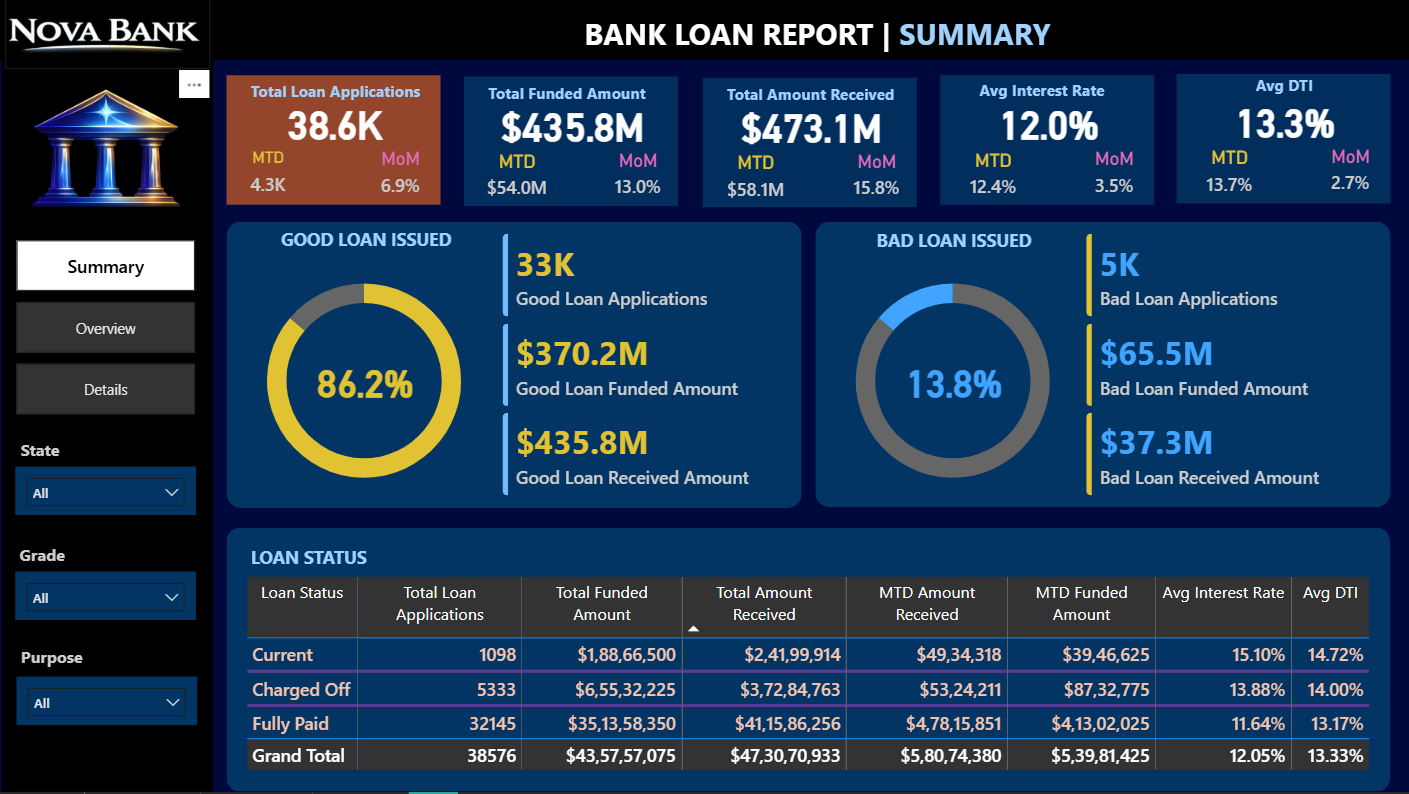

The dashboard page shown, as its layout file describes it:
{"tool":"powerbi","page":{"name":"Summary","canvas":[1280,720],"ordinal":0},"visuals":[{"type":"shape","box":[2.3,54.7,191.9,665.1],"z":0},{"type":"shape","box":[0,0,1280.3,55],"z":1000},{"type":"textbox","box":[526.7,8.1,454.7,46.5],"z":2000},{"type":"shape","box":[1068.6,68.1,194.2,117.4],"z":3000,"group":"g5"},{"type":"group","id":"g1","title":"Group 1","box":[206.5,69.1,194.2,119.3],"z":3000},{"type":"shape","box":[206.5,69.6,194.2,117.4],"z":3000,"group":"g1"},{"type":"shape","box":[854,70.2,194.2,117.4],"z":3000,"group":"g4"},{"type":"shape","box":[422.3,70.3,194.2,117.4],"z":3000,"group":"g2"},{"type":"shape","box":[638.1,71.4,194.2,117.4],"z":3000,"group":"g3"},{"type":"card","fields":{"Values":["bank_loan_data.Avg DTI"]},"box":[1074.9,87.9,183.7,45.3],"z":4000,"group":"g5"},{"type":"card","fields":{"Values":["bank_loan_data.Total Loan Applications"]},"box":[212.8,89.3,183.7,45.3],"z":4000,"group":"g1"},{"type":"card","fields":{"Values":["bank_loan_data.Total Funded Amount"]},"box":[428.6,90,183.7,45.3],"z":4000,"group":"g2"},{"type":"card","fields":{"Values":["bank_loan_data.Avg Interest Rate"]},"box":[860.3,90,183.7,45.3],"z":4000,"group":"g4"},{"type":"card","fields":{"Values":["bank_loan_data.Total Amount Received"]},"box":[644.4,91.1,183.7,45.3],"z":4000,"group":"g3"},{"type":"shape","box":[207,202.3,522,260],"z":4000},{"type":"textbox","box":[1135,64,101.2,29.1],"z":5000,"group":"g5"},{"type":"textbox","box":[884.2,68.6,172.1,31.4],"z":5000,"group":"g4"},{"type":"textbox","box":[223.2,69.1,172.1,31.4],"z":5000,"group":"g1"},{"type":"group","id":"g2","title":"Group 1","box":[422.3,69.8,194.2,120],"z":5000},{"type":"textbox","box":[439,69.8,172.1,31.4],"z":5000,"group":"g2"},{"type":"textbox","box":[654.8,70.9,172.1,31.4],"z":5000,"group":"g3"},{"type":"card","title":"MTD","fields":{"Values":["bank_loan_data.MTD Avg DTI"]},"box":[1074.9,134.2,82.6,53.5],"z":6000,"group":"g5"},{"type":"card","title":"MTD","fields":{"Values":["bank_loan_data.MTD Loan Applications"]},"box":[212.8,134.9,61.6,53.5],"z":6000,"group":"g1"},{"type":"card","title":"MTD","fields":{"Values":["bank_loan_data.MTD Funded Amount"]},"box":[428.6,136.3,82.6,53.5],"z":6000,"group":"g2"},{"type":"card","title":"MTD","fields":{"Values":["bank_loan_data.MTD Avg Interest Rate"]},"box":[860.3,136.3,82.6,53.5],"z":6000,"group":"g4"},{"type":"card","title":"MTD","fields":{"Values":["bank_loan_data.MTD Amount Received"]},"box":[644.4,137.4,82.6,53.5],"z":6000,"group":"g3"},{"type":"textbox","box":[251.2,202.3,165.1,31.4],"z":6000},{"type":"group","id":"g3","title":"Group 1","box":[638.1,70.9,194.2,119.8],"z":7000},{"type":"card","title":"MoM","fields":{"Values":["bank_loan_data.MoM Avg DTI"]},"box":[1195.8,133.5,61.6,53.5],"z":7000,"group":"g5"},{"type":"card","title":"MoM","fields":{"Values":["bank_loan_data.MoM Loan Application"]},"box":[333.7,134.9,61.6,53.5],"z":7000,"group":"g1"},{"type":"card","title":"MoM","fields":{"Values":["bank_loan_data.MoM Total Funded Amount"]},"box":[549.5,135.6,61.6,53.5],"z":7000,"group":"g2"},{"type":"card","title":"MoM","fields":{"Values":["bank_loan_data.MoM Avg Interest Rate"]},"box":[981.2,135.6,61.6,53.5],"z":7000,"group":"g4"},{"type":"card","title":"MoM","fields":{"Values":["bank_loan_data.MoM Total Amount Received"]},"box":[765.3,136.7,61.6,53.5],"z":7000,"group":"g3"},{"type":"group","id":"g4","title":"Group 2","box":[854,68.6,202.3,121.2],"z":8000},{"type":"group","id":"g5","title":"Group 2","box":[1068.6,64,194.2,123.3],"z":9000},{"type":"card","fields":{"Values":["bank_loan_data.Good Loan %"]},"box":[279.1,316.3,107,60.5],"z":10000},{"type":"shape","box":[740.7,202.3,522.1,259.3],"z":11000},{"type":"donutChart","fields":{"Category":["bank_loan_data.Good vs Bad Loan"],"Y":["bank_loan_data.Total Loan Applications"]},"box":[207,231.4,250,230.2],"z":12000},{"type":"cardVisual","fields":{"Data":["bank_loan_data.Good Loan Applications","bank_loan_data.Good Loan Funded Amount","bank_loan_data.Good Loan Received Amount"]},"box":[439.5,196.5,284.9,272.1],"z":13000},{"type":"donutChart","fields":{"Category":["bank_loan_data.Good vs Bad Loan"],"Y":["bank_loan_data.Total Loan Applications"]},"box":[740.7,231.4,250,230.2],"z":14000},{"type":"textbox","box":[775.6,203.5,181.4,31.4],"z":15000},{"type":"card","fields":{"Values":["bank_loan_data.Bad Loan %"]},"box":[812.8,316.3,107,60.5],"z":16000},{"type":"cardVisual","fields":{"Data":["bank_loan_data.Bad Loan Applications","bank_loan_data.Bad Loan Funded Amount","bank_loan_data.Bad Loan Received Amount"]},"box":[969.8,196.5,284.9,272.1],"z":17000},{"type":"shape","box":[207,480.2,1055.8,239.5],"z":18000},{"type":"tableEx","fields":{"Values":["bank_loan_data.loan_status","bank_loan_data.Total Loan Applications","bank_loan_data.Total Funded Amount","bank_loan_data.Total Amount Received","bank_loan_data.MTD Amount Received","bank_loan_data.MTD Funded Amount","bank_loan_data.Avg Interest Rate","bank_loan_data.Avg DTI"]},"box":[218.6,519.8,1031.4,190.7],"z":19000},{"type":"textbox","box":[223.3,489.5,146.5,31.4],"z":20000},{"type":"slicer","fields":{"Values":["bank_loan_data.address_state"]},"box":[15.1,424.4,164,44.2],"z":21000},{"type":"textbox","box":[15.1,393,165.1,31.4],"z":22000},{"type":"slicer","fields":{"Values":["bank_loan_data.grade"]},"box":[15.1,519.8,164,44.2],"z":23000},{"type":"textbox","box":[14,488.4,165.1,31.4],"z":24000},{"type":"slicer","fields":{"Values":["bank_loan_data.purpose"]},"box":[16.3,615.1,164,44.2],"z":25000},{"type":"textbox","box":[15.1,581.4,143,33.7],"z":26000},{"type":"pageNavigator","box":[16.3,218.6,162.8,158.1],"z":27000},{"type":"image","box":[0,38.4,194.2,197.7],"z":27001},{"type":"image","box":[5.8,0,186,64],"z":27002}]}

Visuals, with their boxes in screenshot pixels (x1, y1, x2, y2), scaled from the page's 1280x720 canvas onto the 1409x794 screenshot:
shape: region(3, 60, 214, 793)
shape: region(0, 0, 1408, 61)
textbox: region(580, 9, 1080, 60)
shape: region(1176, 75, 1390, 205)
"Group 1" group: region(227, 76, 441, 208)
shape: region(227, 77, 441, 206)
shape: region(940, 77, 1154, 207)
shape: region(465, 78, 679, 207)
shape: region(702, 79, 916, 208)
card - bank_loan_data.Avg DTI: region(1183, 97, 1385, 147)
card - bank_loan_data.Total Loan Applications: region(234, 98, 436, 148)
card - bank_loan_data.Total Funded Amount: region(472, 99, 674, 149)
card - bank_loan_data.Avg Interest Rate: region(947, 99, 1149, 149)
card - bank_loan_data.Total Amount Received: region(709, 100, 912, 150)
shape: region(228, 223, 802, 510)
textbox: region(1249, 71, 1361, 103)
textbox: region(973, 76, 1163, 110)
textbox: region(246, 76, 435, 111)
"Group 1" group: region(465, 77, 679, 209)
textbox: region(483, 77, 673, 112)
textbox: region(721, 78, 910, 113)
"MTD" card: region(1183, 148, 1274, 207)
"MTD" card: region(234, 149, 302, 208)
"MTD" card: region(472, 150, 563, 209)
"MTD" card: region(947, 150, 1038, 209)
"MTD" card: region(709, 152, 800, 211)
textbox: region(277, 223, 458, 258)
"Group 1" group: region(702, 78, 916, 210)
"MoM" card: region(1316, 147, 1384, 206)
"MoM" card: region(367, 149, 435, 208)
"MoM" card: region(605, 150, 673, 209)
"MoM" card: region(1080, 150, 1148, 209)
"MoM" card: region(842, 151, 910, 210)
"Group 2" group: region(940, 76, 1163, 209)
"Group 2" group: region(1176, 71, 1390, 207)
card - bank_loan_data.Good Loan %: region(307, 349, 425, 416)
shape: region(815, 223, 1390, 509)
donutChart - bank_loan_data.Good vs Bad Loan x bank_loan_data.Total Loan Applications: region(228, 255, 503, 509)
cardVisual - bank_loan_data.Good Loan Applications x bank_loan_data.Good Loan Funded Amount: region(484, 217, 797, 517)
donutChart - bank_loan_data.Good vs Bad Loan x bank_loan_data.Total Loan Applications: region(815, 255, 1091, 509)
textbox: region(854, 224, 1053, 259)
card - bank_loan_data.Bad Loan %: region(895, 349, 1012, 416)
cardVisual - bank_loan_data.Bad Loan Applications x bank_loan_data.Bad Loan Funded Amount: region(1068, 217, 1381, 517)
shape: region(228, 530, 1390, 793)
tableEx - bank_loan_data.loan_status x bank_loan_data.Total Loan Applications: region(241, 573, 1376, 784)
textbox: region(246, 540, 407, 574)
slicer - bank_loan_data.address_state: region(17, 468, 197, 517)
textbox: region(17, 433, 198, 468)
slicer - bank_loan_data.grade: region(17, 573, 197, 622)
textbox: region(15, 539, 197, 573)
slicer - bank_loan_data.purpose: region(18, 678, 198, 727)
textbox: region(17, 641, 174, 678)
pageNavigator: region(18, 241, 197, 415)
image: region(0, 42, 214, 260)
image: region(6, 0, 211, 71)
